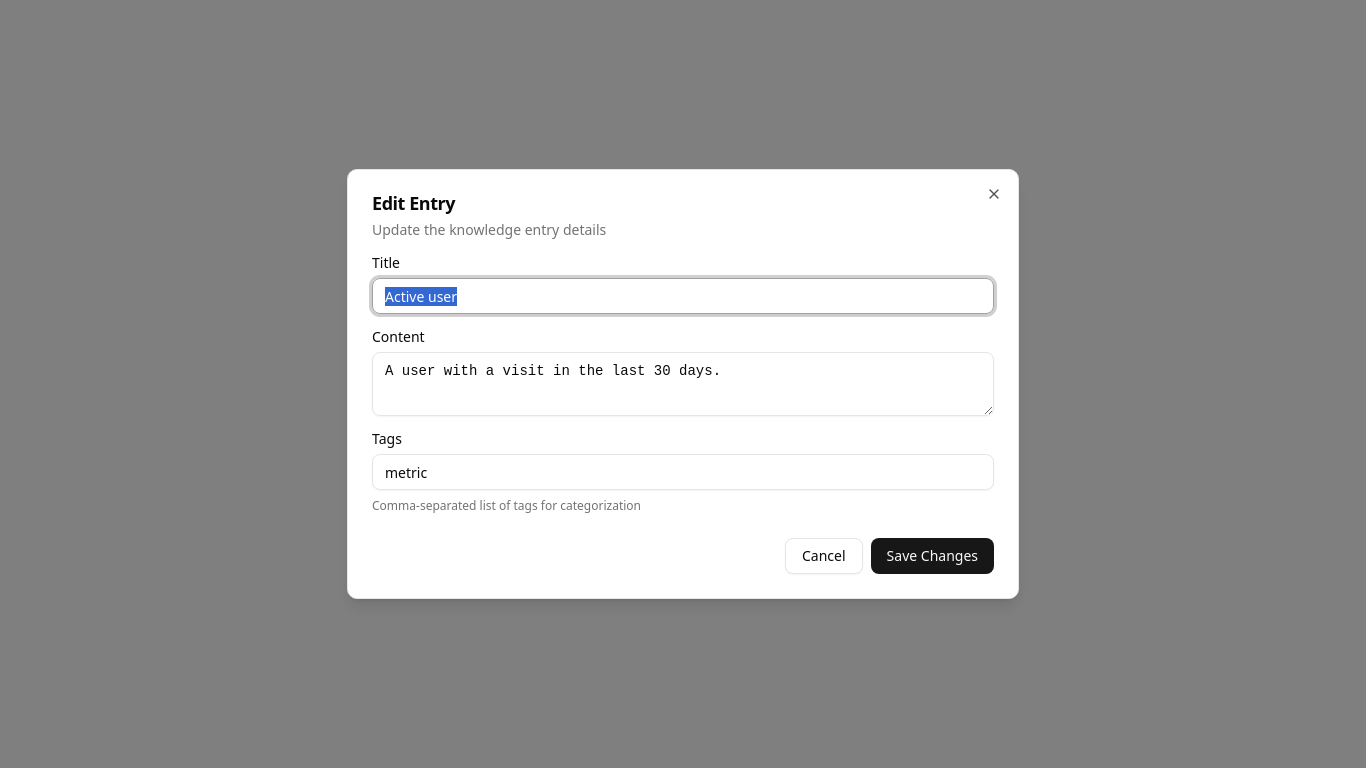
Test: knowledge for read-only members › explains a role denial when a stale writer saves
The width and height of the screenshot is (1366, 768).
Click the button "Save Changes".
click(932, 556)  # box [871,538,994,574]
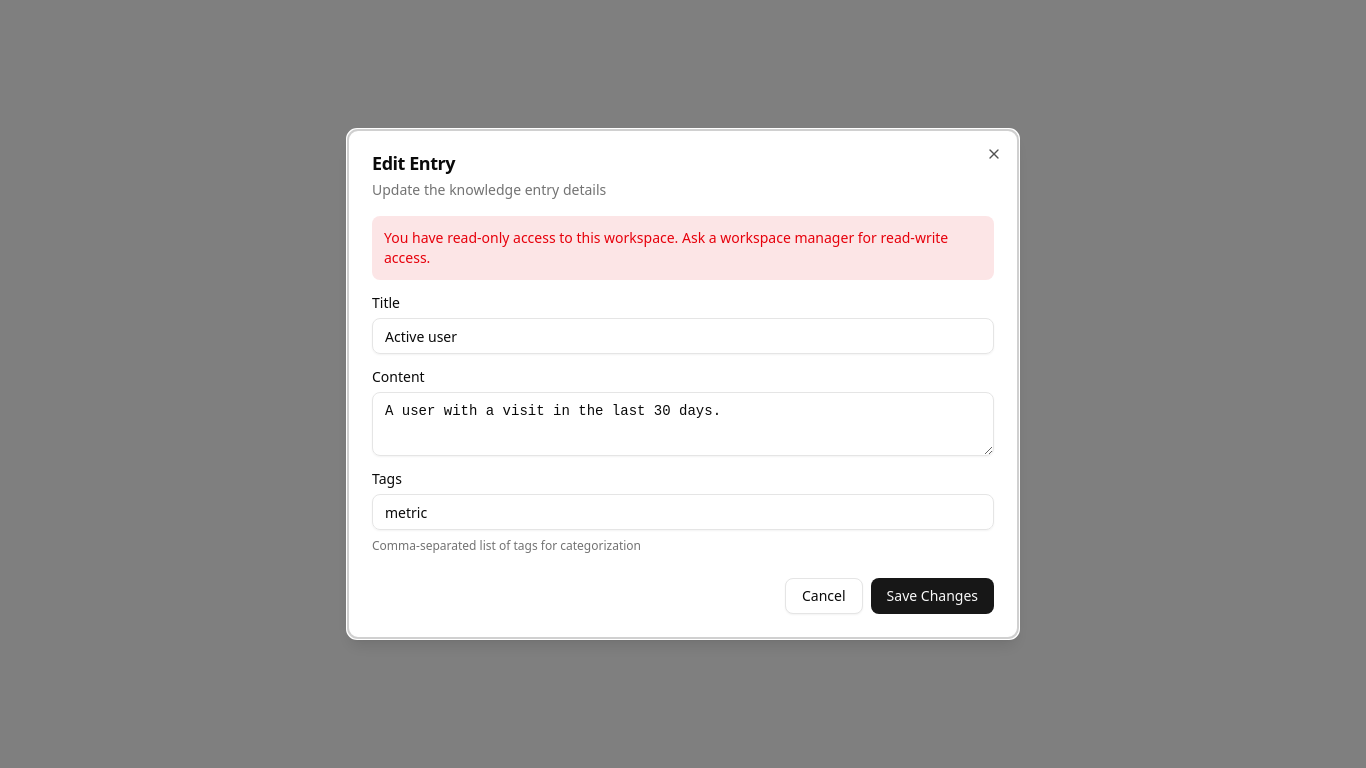
Expected: the text "You have read-only access to this workspace. Ask a workspace manager for read-write access." is shown, [384,228,948,267]
